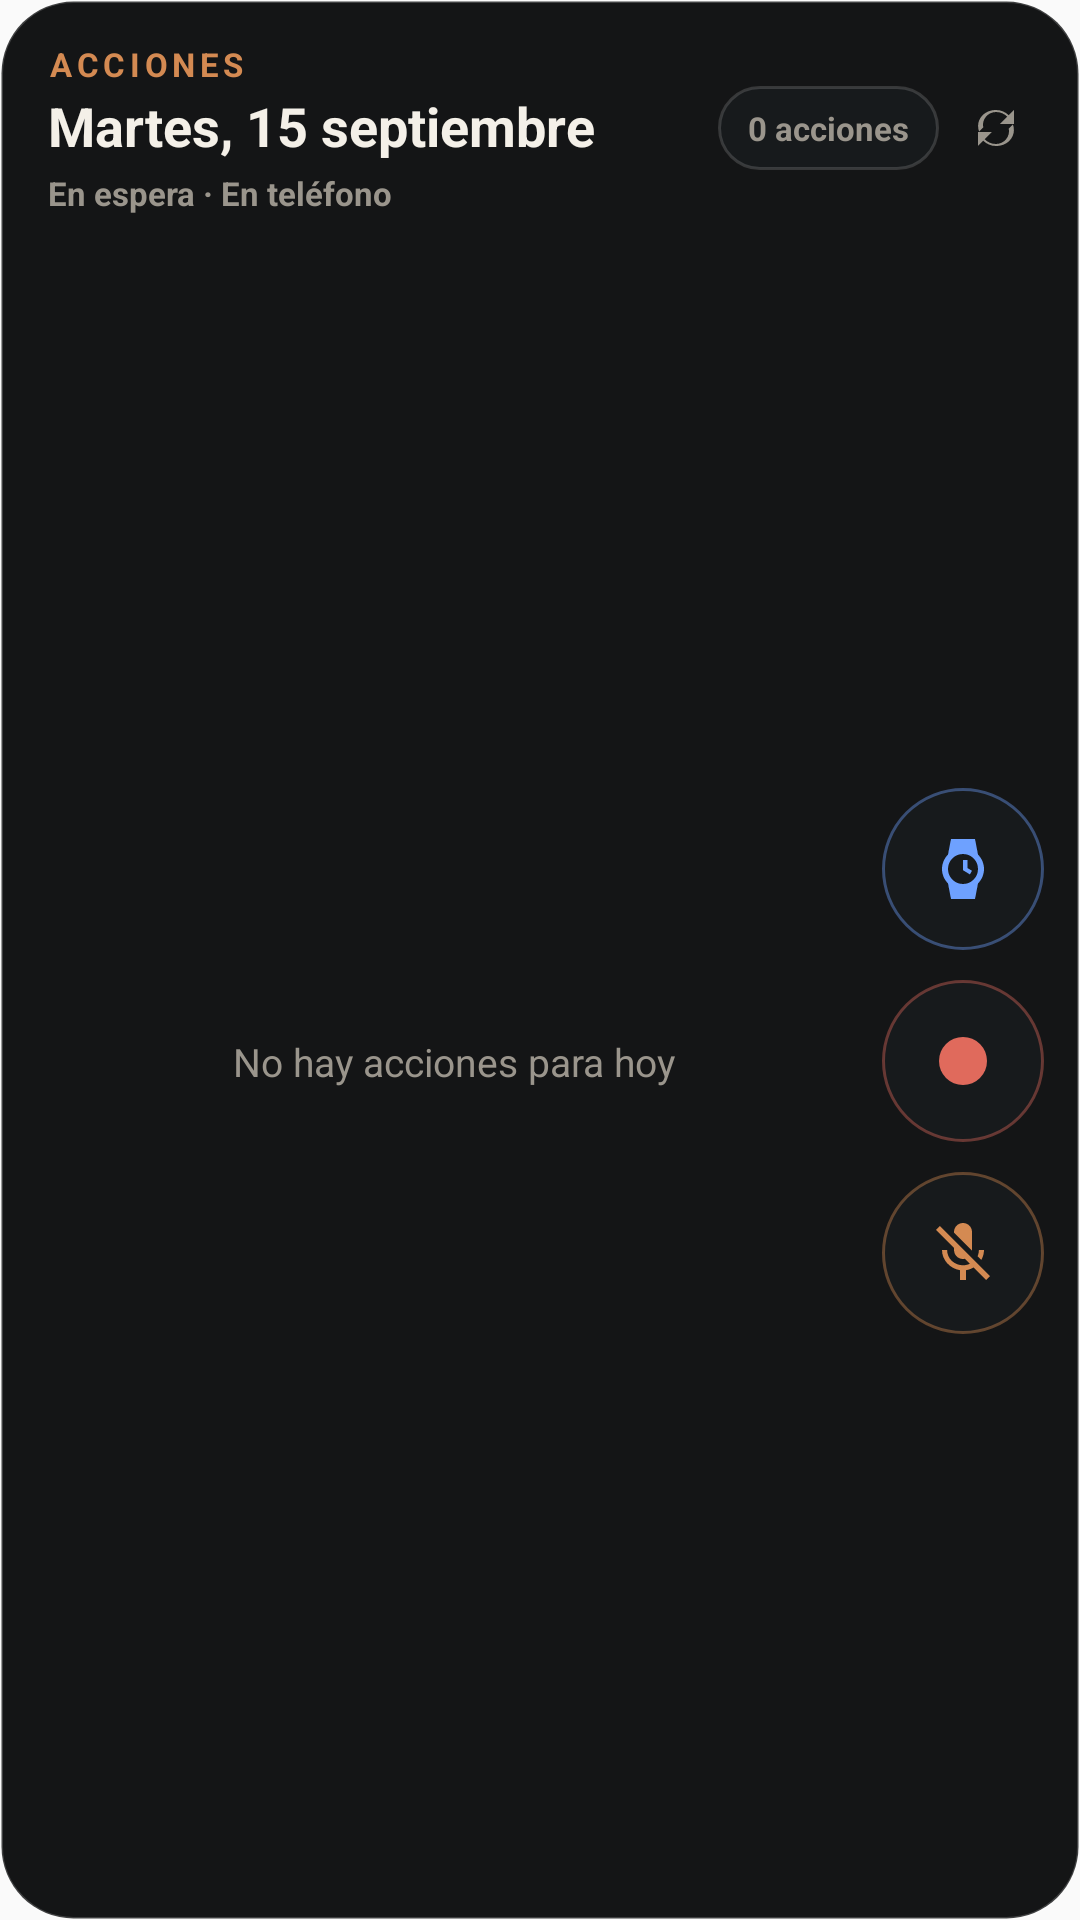

Point at icon controls on the screen. Image size 1080 x 1920, points as (x=x, y=y).
Actualizar widget: (x=996, y=128)
Grabar reunión: (x=963, y=1061)
Iniciar escucha: (x=963, y=1253)
Pasar escucha al reloj: (x=963, y=869)
